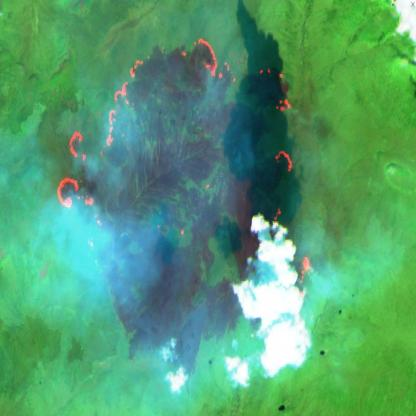fire: (53, 33, 319, 322)
